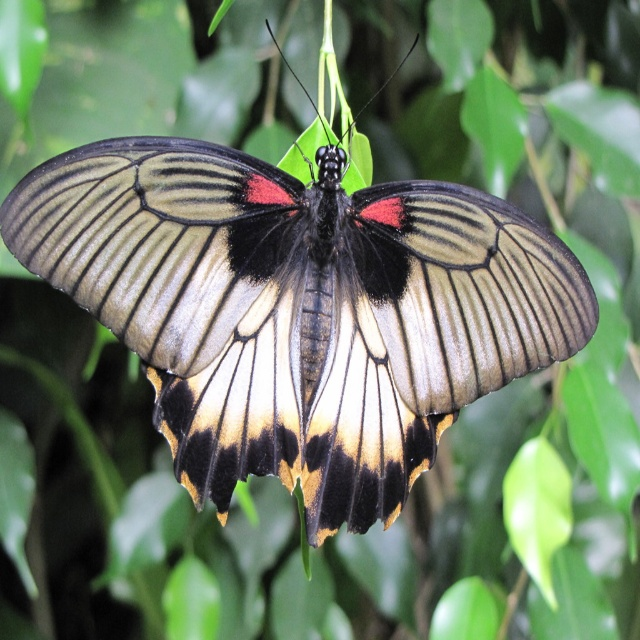Butterfly: (31, 25, 605, 543)
